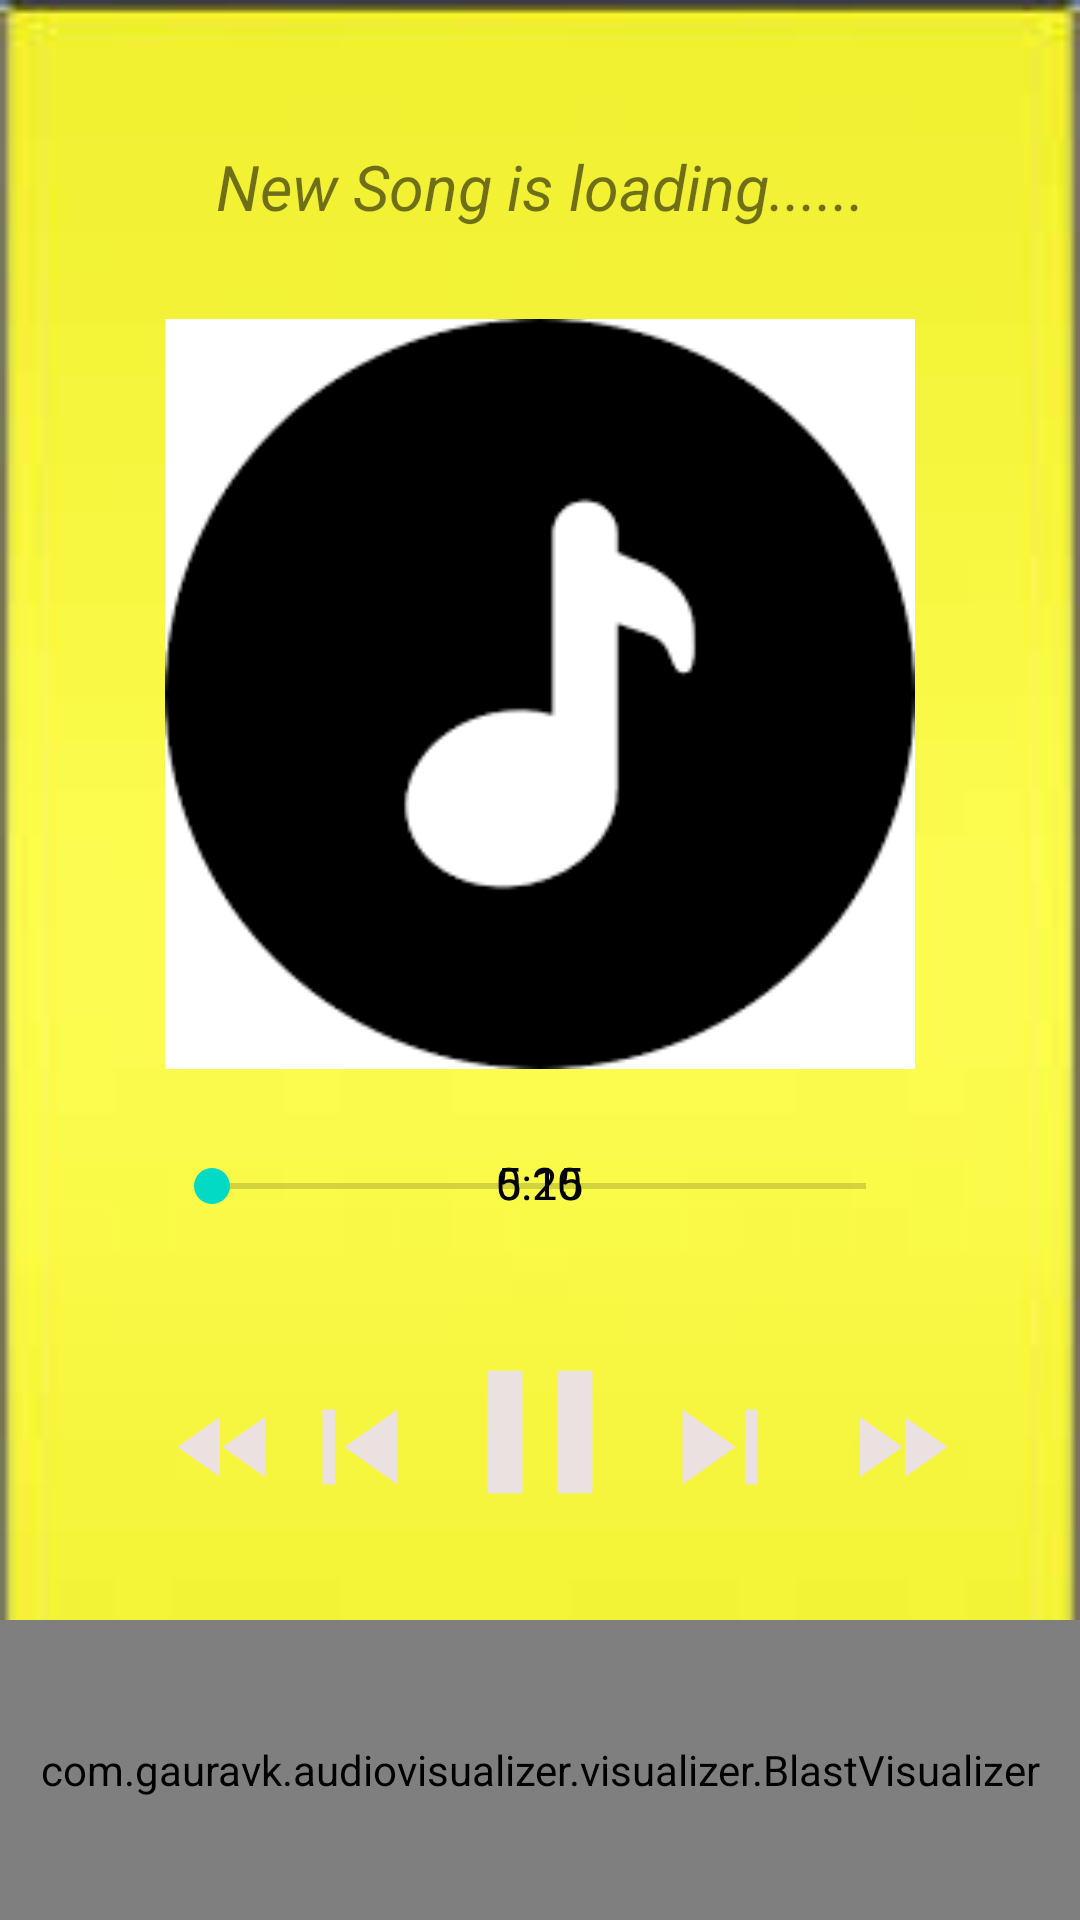

Locate icon controls on the screen. Image size 1080px x 1920px, boxes as box(x1, y1, x2, y2).
backward: box(178, 1417, 265, 1477)
forward: box(860, 1417, 947, 1477)
next: box(682, 1409, 758, 1485)
pause: box(487, 1370, 593, 1494)
previous: box(322, 1409, 398, 1485)
